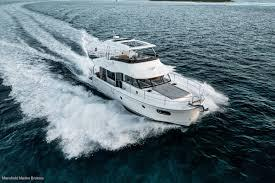Ship: (84, 35, 205, 126)
